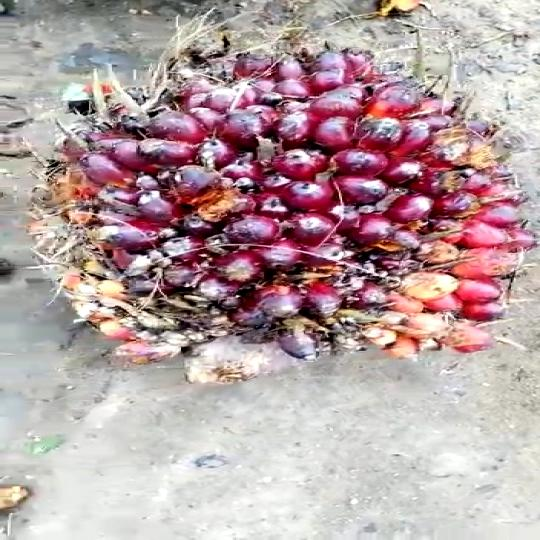masak: (28, 50, 532, 384)
